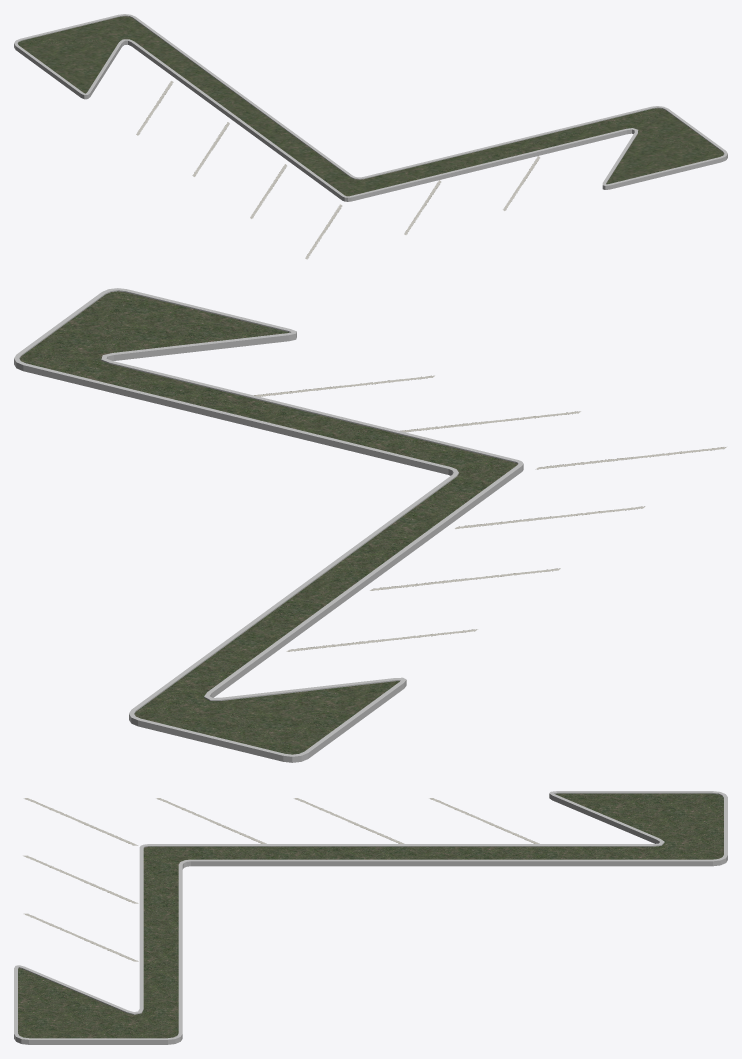
Rendered from Park-05.fbx.
3 renders of one model, top to bottom at view 1: azimuth 30°, elevation 25°; view 2: azimuth 150°, elevation 25°; view 3: azimuth 270°, elevation 25°, orthographic. The views are drawn at different scales.
Visible parts, largest first — view 1: Park-05; view 2: Park-05; view 3: Park-05.
Part boxes in pixels (left/top/right/bottom): Park-05: left=14, top=14, right=727, bottom=259; Park-05: left=14, top=288, right=726, bottom=762; Park-05: left=14, top=791, right=727, bottom=1044.
Size of what is drawn, in the model's own units: 21.5 by 0.2 by 26.07.
